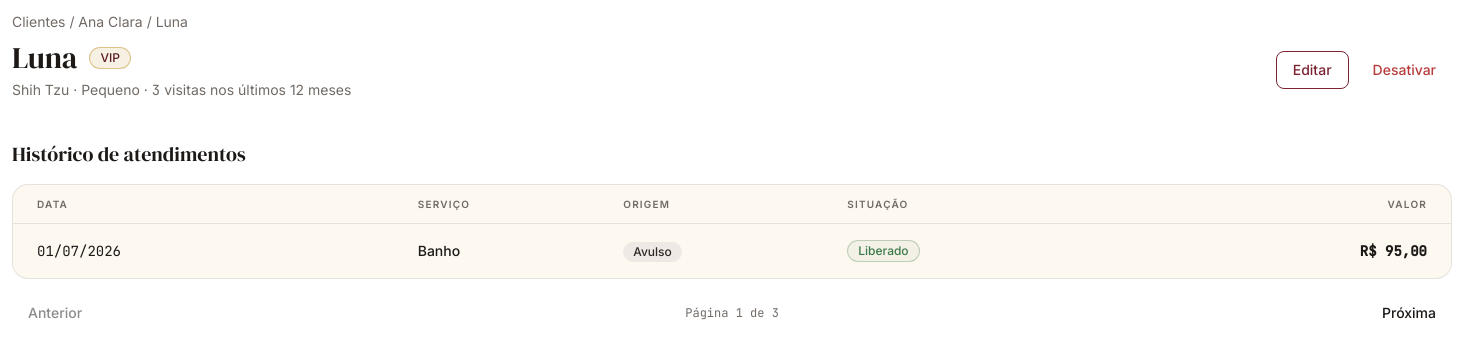
Test case: PetDetalhe › pagina o histórico e pede a página 2
expect the text "Página 1 de 3" is shown: met, box x1=685 y1=305 x2=779 y2=321
What coordinates should you click on to do the following:
click the button "Próxima"
I would click on:
 (1409, 313)
Its box is x1=1366 y1=295 x2=1452 y2=331.
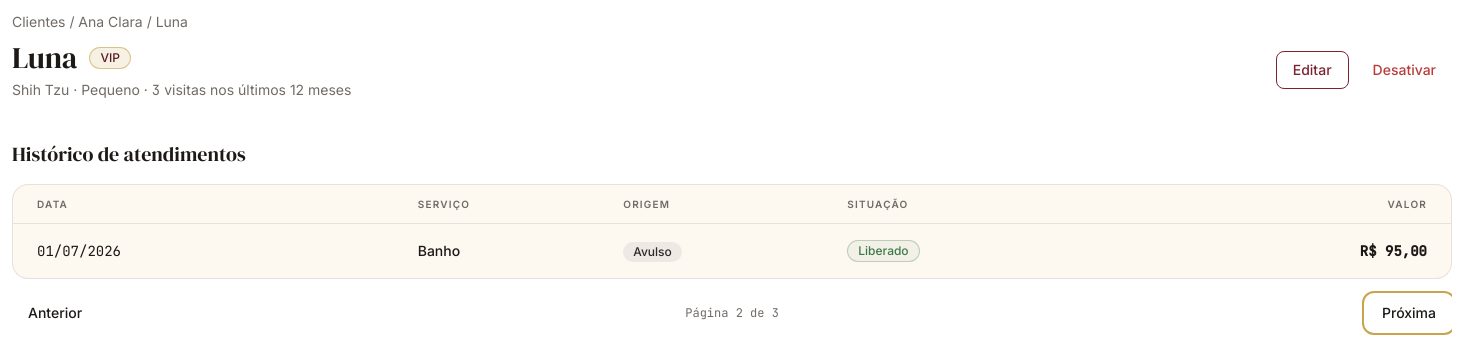
expect the text "Página 2 de 3" is shown: met, box x1=685 y1=305 x2=779 y2=321
